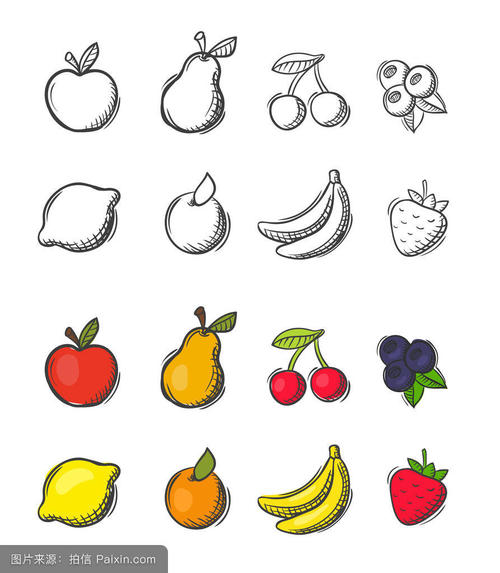banana: (253, 161, 357, 263), (252, 439, 357, 534)
